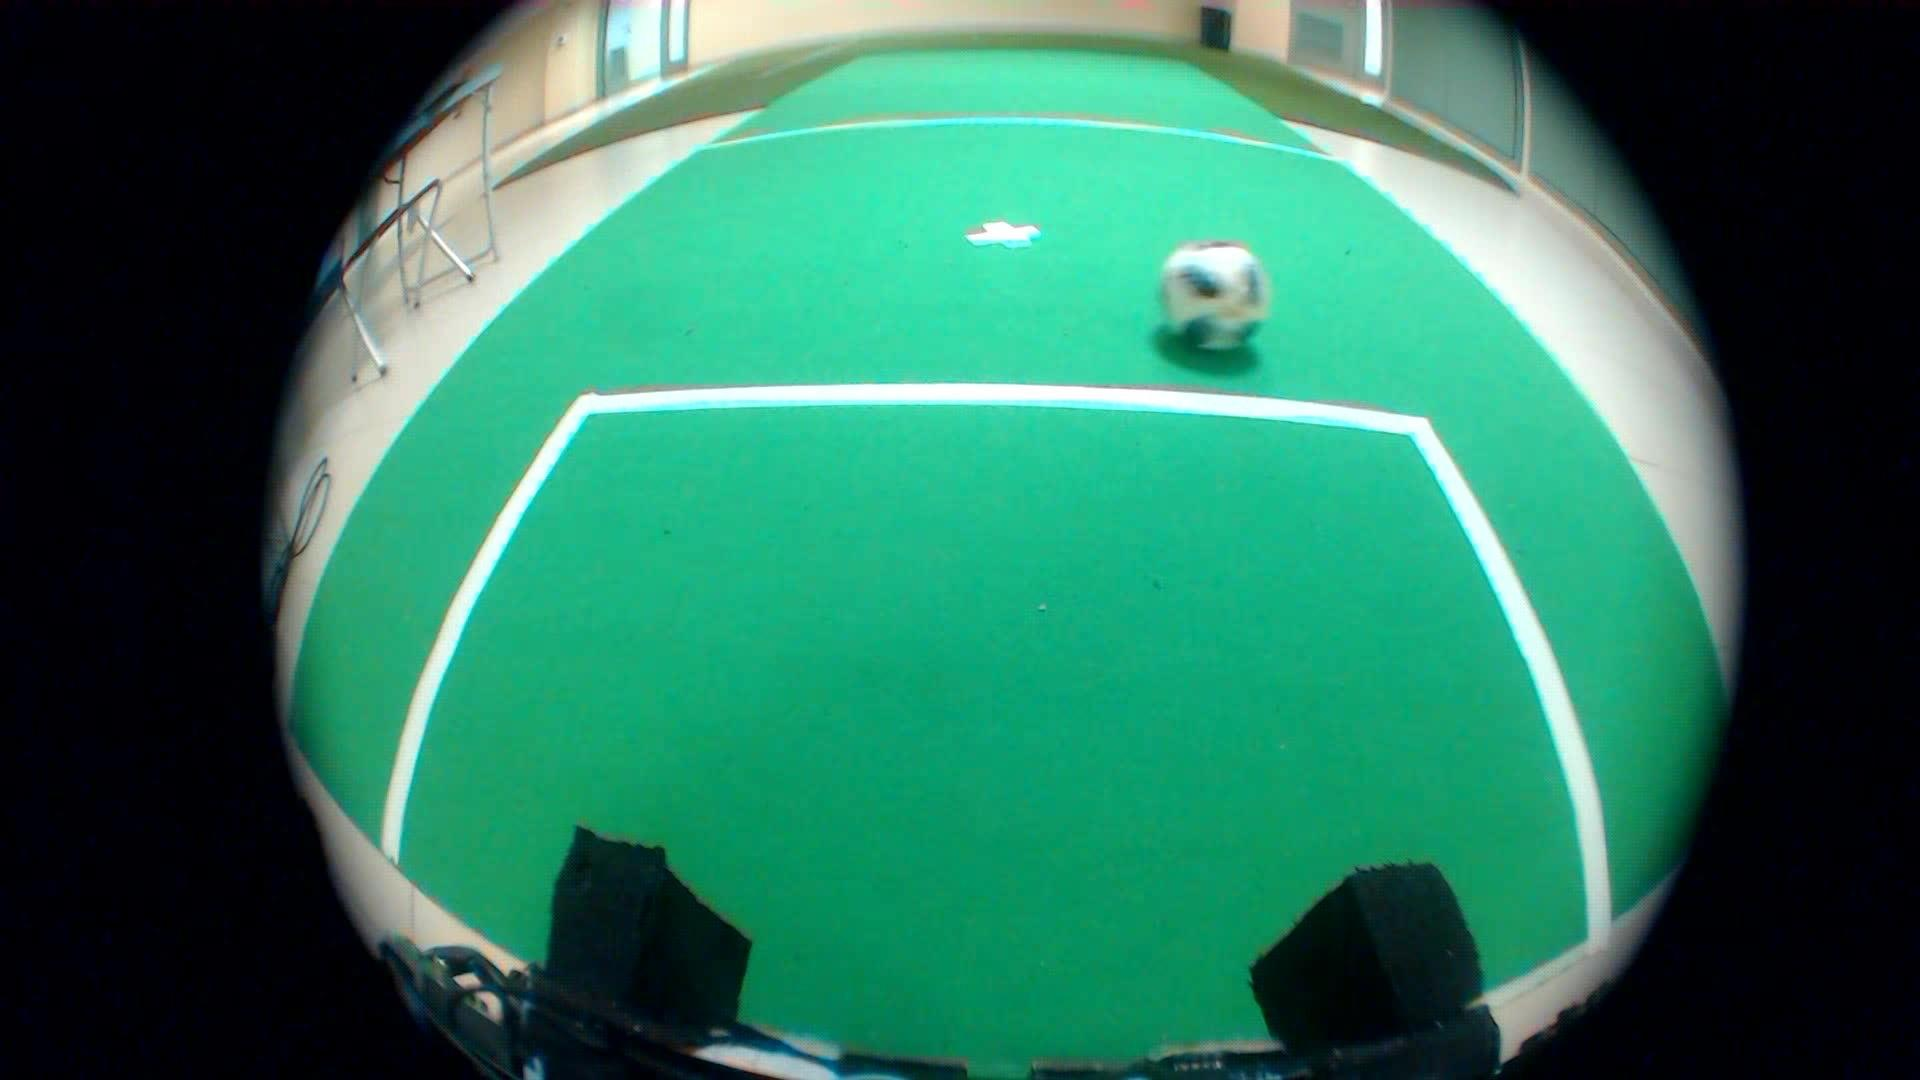ball: (1120, 222, 1291, 375)
